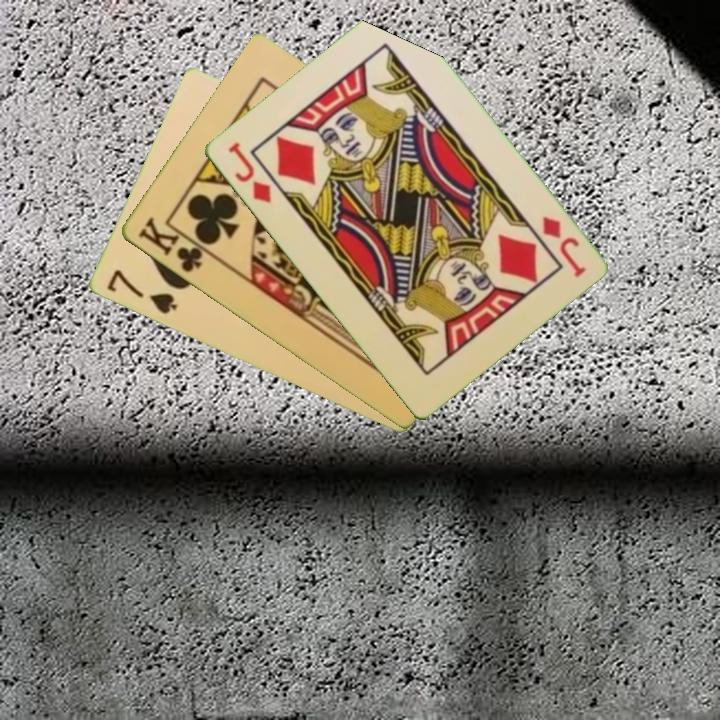7s: (103, 265, 180, 318)
Jd: (223, 138, 274, 206), (538, 212, 589, 280)
Kc: (134, 213, 214, 276)
